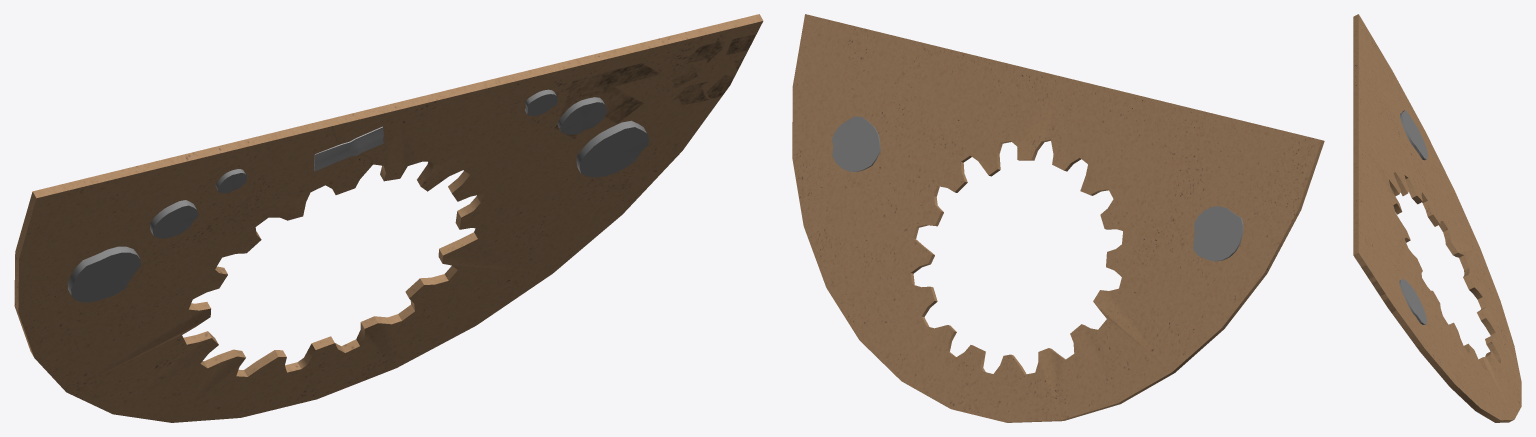
File: carton_arrondi_2.fbx
3 renders of one model, left to right at view 1: azimuth 30°, elevation 25°; view 2: azimuth 150°, elevation 25°; view 3: azimuth 270°, elevation 25°, orthographic. The views are drawn at different scales.
Parts seen in each view (by area): view 1: carton, b7, b1, b9, b3, tape; view 2: carton, b7, b1; view 3: carton, b7, b1.
Boxes of the visible parts, x1=… form: carton: x1=14, y1=14, x2=763, y2=422; b7: x1=67, y1=246, x2=140, y2=302; b1: x1=576, y1=120, x2=648, y2=177; b9: x1=150, y1=200, x2=198, y2=238; b3: x1=557, y1=97, x2=606, y2=134; tape: x1=314, y1=126, x2=383, y2=171; carton: x1=792, y1=14, x2=1324, y2=422; b7: x1=1193, y1=206, x2=1243, y2=261; b1: x1=832, y1=116, x2=880, y2=171; carton: x1=1353, y1=14, x2=1521, y2=422; b7: x1=1400, y1=110, x2=1427, y2=160; b1: x1=1399, y1=279, x2=1426, y2=324.
Size of the model in its own units: 1.86 by 0.9573 by 0.5535.
3 materials, 1 textured.
